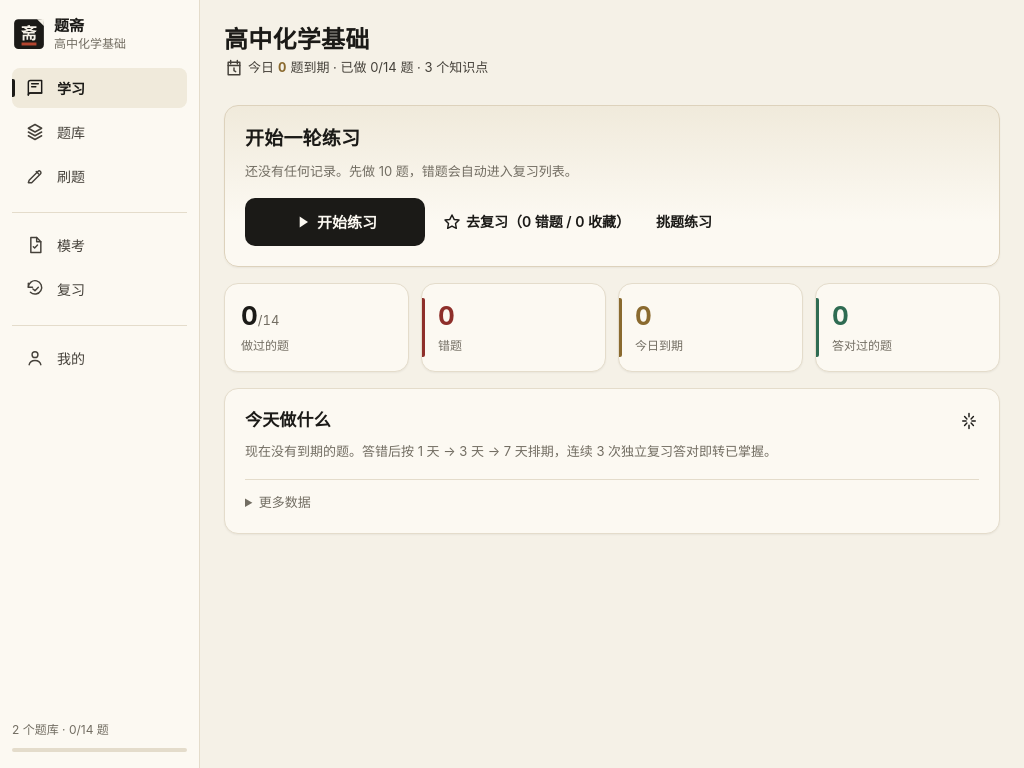
Test: S4 复习与对账 › 复习页四个视图都可达且空状态有引导
Check: the heading "高中化学基础" is shown, box [224,25,370,54]
Click the button "复习": (100, 289) [12,269,187,309]
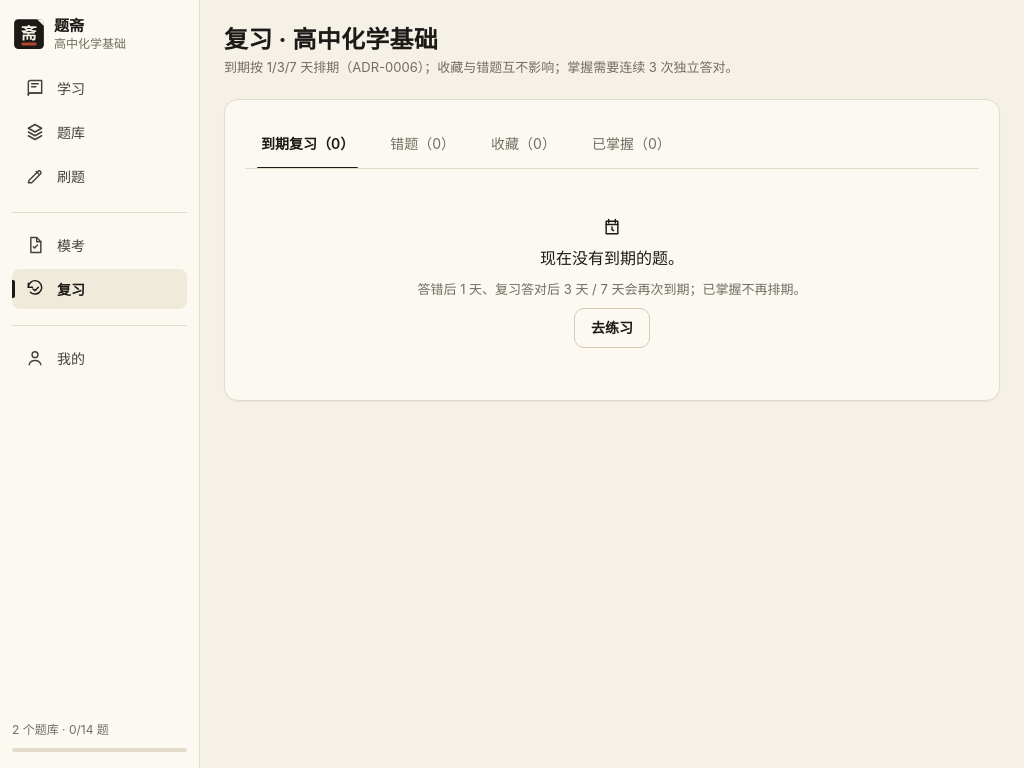
Check: the tab "到期复习（0）" is shown, box [245,120,370,168]
Check: the tab "错题（0）" is shown, box [374,120,471,168]
Check: the tab "收藏（0）" is shown, box [475,120,572,168]
Click the tab "已掌握（0）": (631, 144) [576,120,687,168]
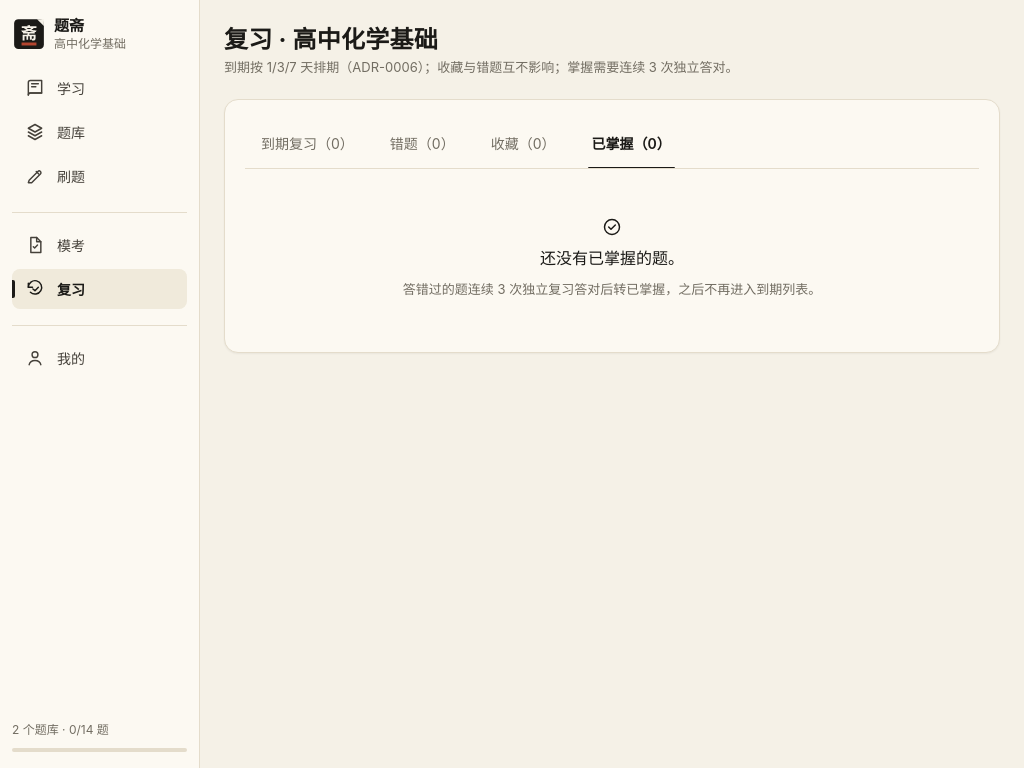
Check: the text "还没有已掌握的题。" is shown, box [540,245,684,271]
